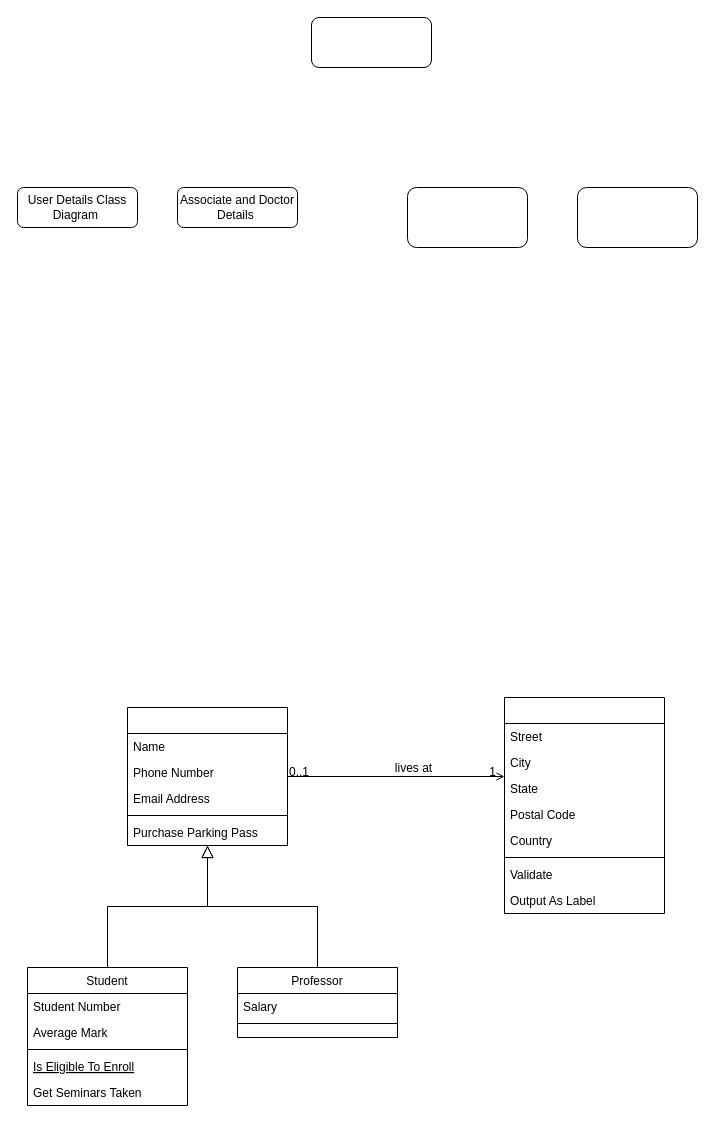
Image size: 715x1126. Some labels were removed from this diagram. Here are the shapes that lost their labels. From the top down, the box of each, then its label:
(126, 706, 288, 846): Person
(504, 696, 664, 914): Address
